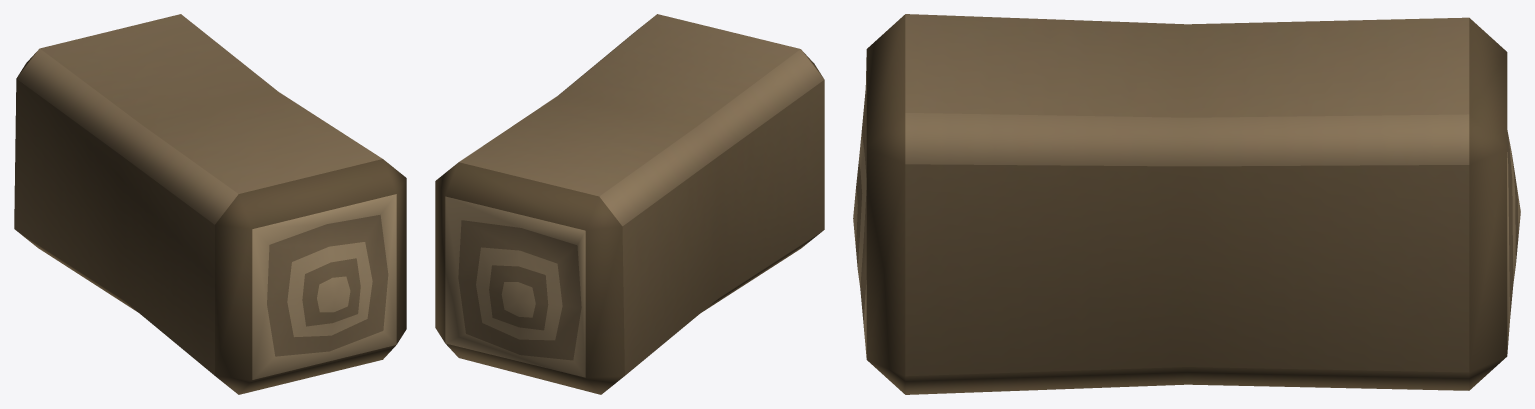
The model's file is wall_beam_small.fbx.
3 renders of one model, left to right at view 1: azimuth 30°, elevation 25°; view 2: azimuth 150°, elevation 25°; view 3: azimuth 270°, elevation 25°, orthographic. The views are drawn at different scales.
Parts seen in each view (by area): view 1: wall_beam_small; view 2: wall_beam_small; view 3: wall_beam_small.
Part boxes in pixels (bbox=[...]): wall_beam_small: bbox=[14, 14, 406, 394]; wall_beam_small: bbox=[435, 14, 824, 394]; wall_beam_small: bbox=[853, 14, 1520, 394].
Size of the model in its own units: 32.15 by 32.15 by 68.97.
